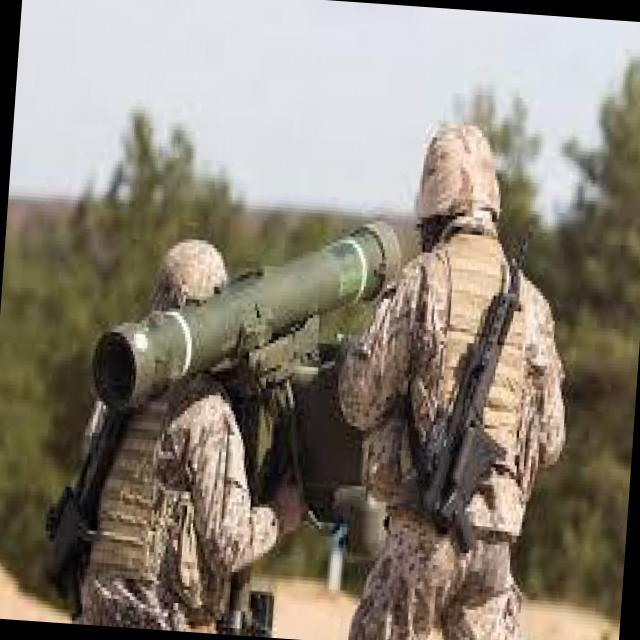rocket: (88, 198, 402, 428)
